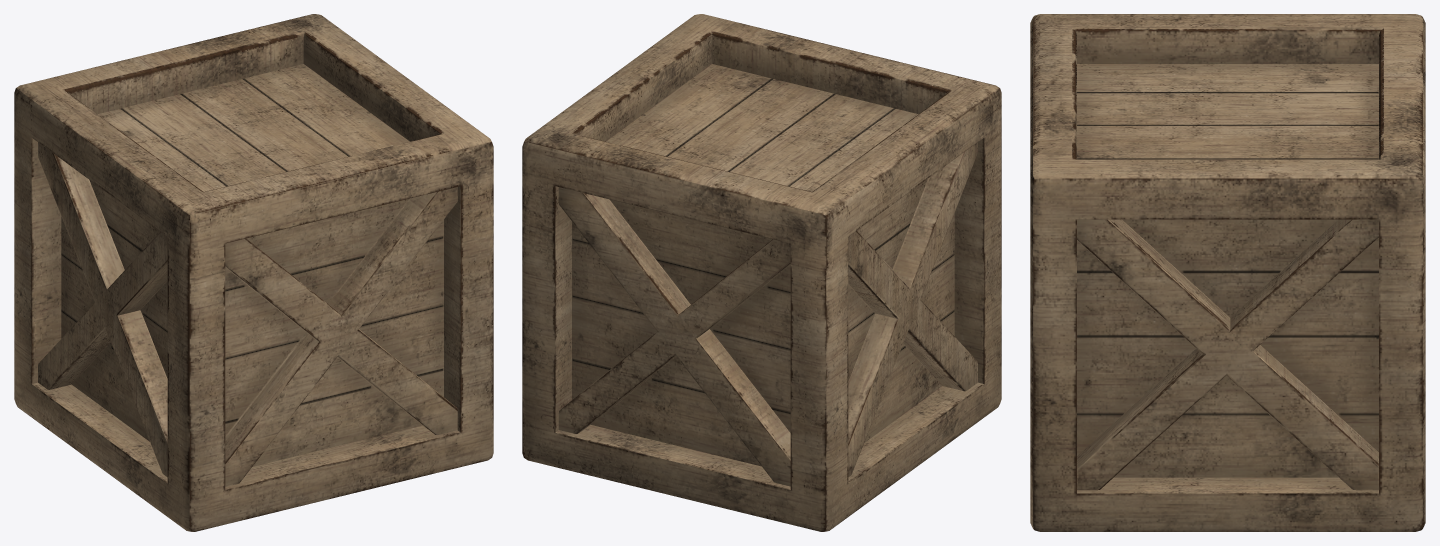
The model's file is Crate.fbx.
The picture shows the model from 3 angles, left to right: view 1: azimuth 30°, elevation 25°; view 2: azimuth 150°, elevation 25°; view 3: azimuth 270°, elevation 25°; orthographic projection. The views are drawn at different scales.
Parts seen in each view (by area): view 1: Crate; view 2: Crate; view 3: Crate.
Boxes of the visible parts, bbox=[...] form: Crate: bbox=[14, 14, 493, 531]; Crate: bbox=[522, 14, 1001, 531]; Crate: bbox=[1030, 14, 1425, 531].
Size of the model in its own units: 200 by 200 by 200.
Materials: 1 (1 with a texture image).
